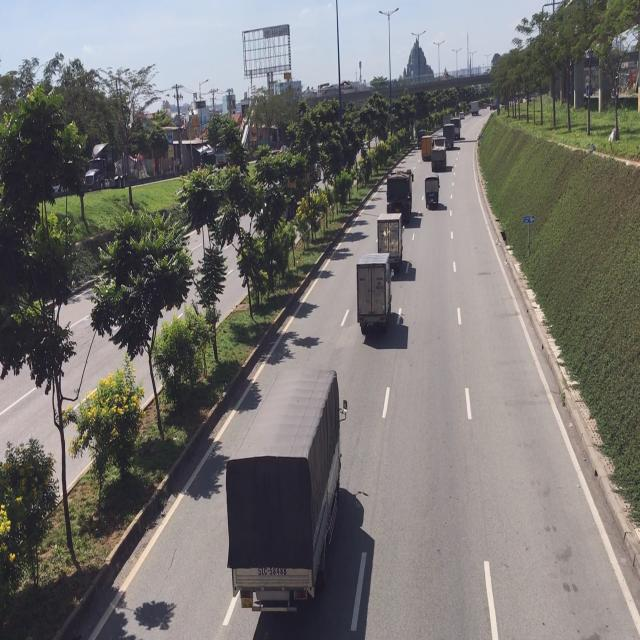truck: (225, 366, 343, 617), (355, 252, 393, 336), (386, 167, 414, 218), (378, 212, 402, 267), (423, 173, 439, 209)
